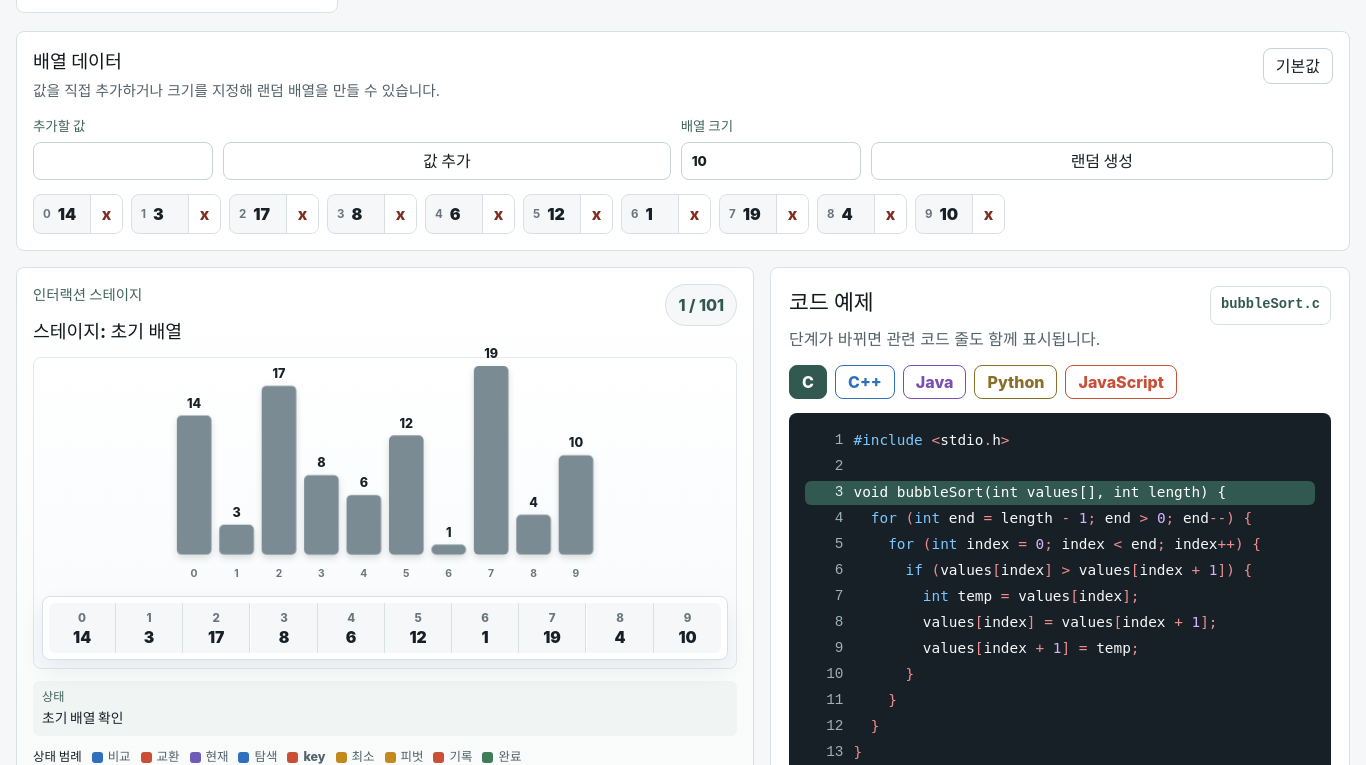
Test: SortingPage › shows language code tabs without executing code
(page scrolled)
Expected: the heading "코드 예제" is shown, [789,289,874,315]
Expected: the text "bubbleSort.c" is shown, [1210,286,1331,325]
Step 1. Click the tab "Python" → point(1016, 382), box [974,365,1058,399]
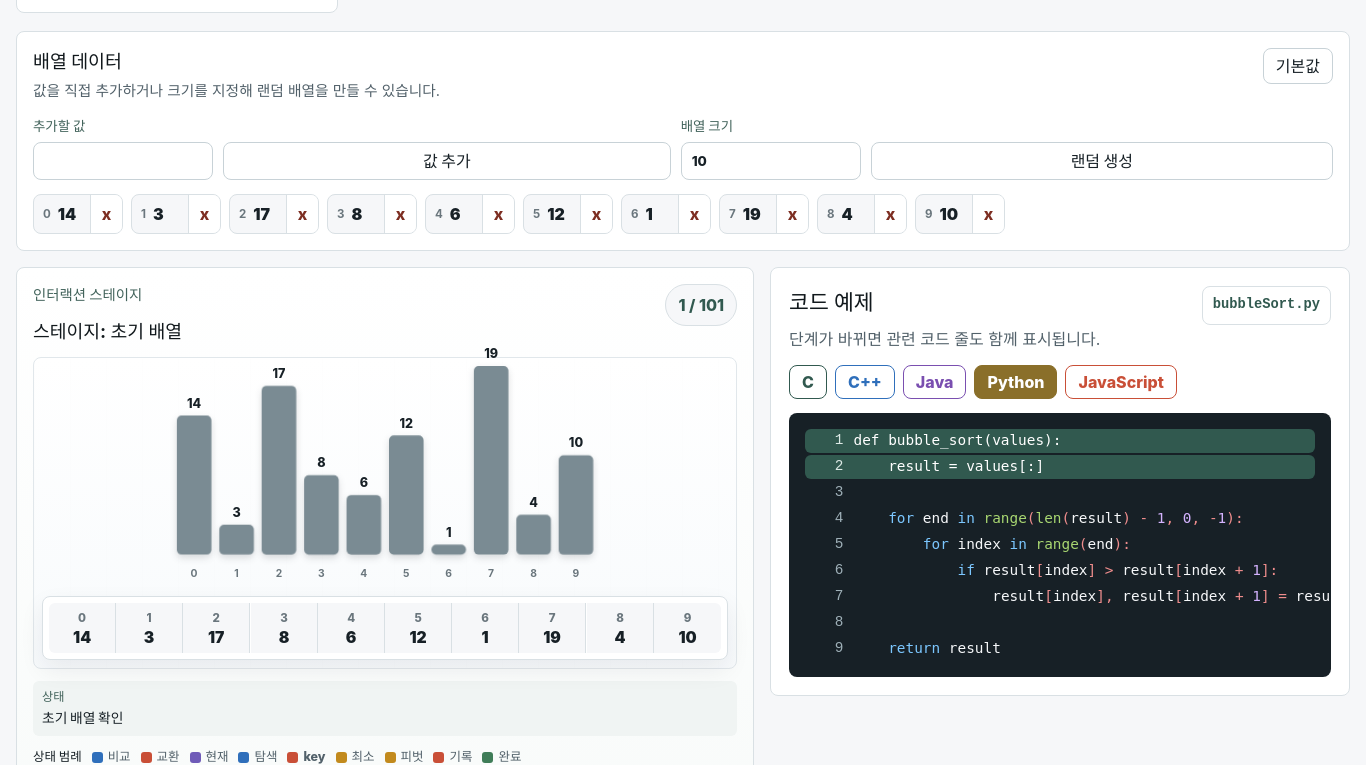
Now the text "bubbleSort.py" is shown, box [1202,286,1331,325]
Now the list item "1 def bubble_sort(values):" is shown, box [805,429,1315,453]
